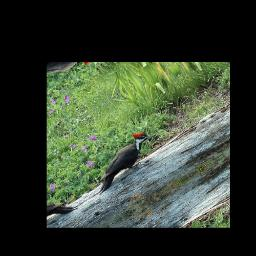Woodpecker: (80, 125, 167, 194)
